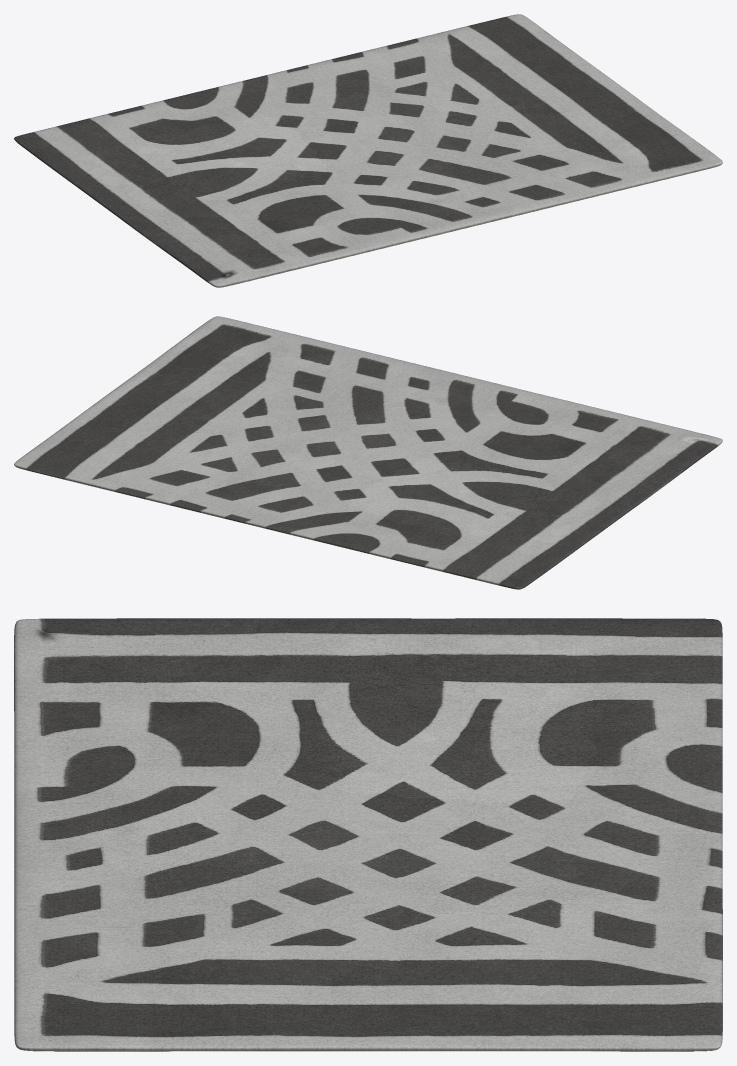
The model's file is paloma.FBX.
The picture shows the model from 3 angles, top to bottom: view 1: azimuth 30°, elevation 25°; view 2: azimuth 150°, elevation 25°; view 3: azimuth 270°, elevation 25°; orthographic projection. The views are drawn at different scales.
Parts seen in each view (by area): view 1: Paloma_Large_Wool_Rug; view 2: Paloma_Large_Wool_Rug; view 3: Paloma_Large_Wool_Rug.
Part boxes in pixels (x1,y1,x2,y2): Paloma_Large_Wool_Rug: (14,14,722,287); Paloma_Large_Wool_Rug: (14,316,722,589); Paloma_Large_Wool_Rug: (14,618,722,1051).
Bounding box in the file's own units: 90.55 × 0.585 × 62.99.
1 material, 1 textured.
